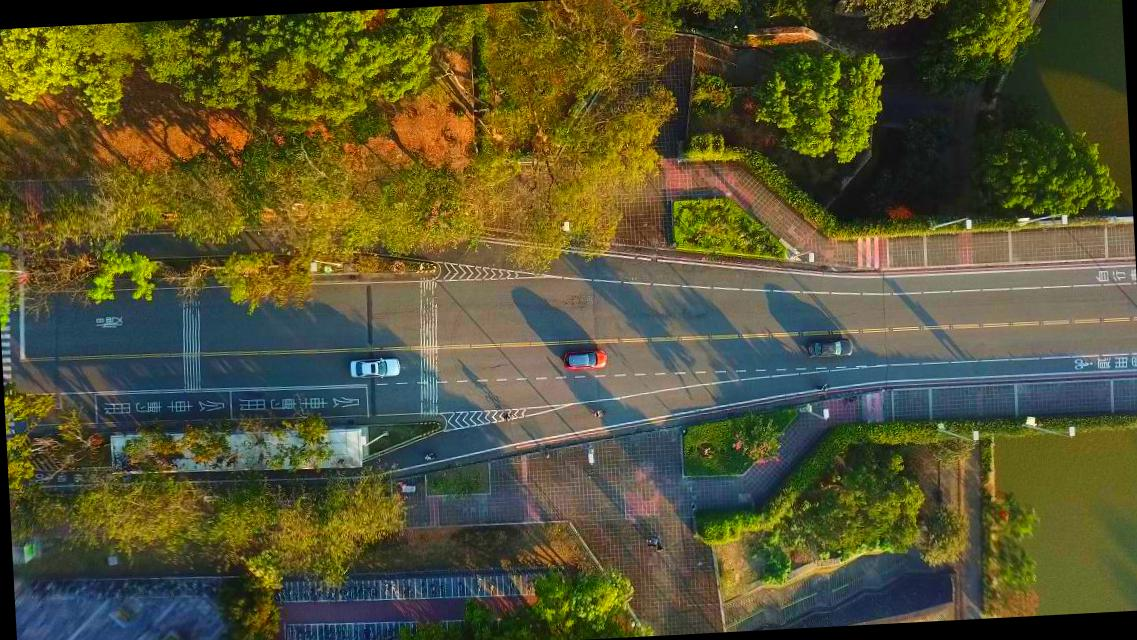vehicle: (348, 356, 400, 379), (806, 338, 854, 358), (564, 348, 606, 370)
